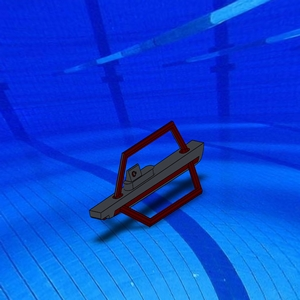submarine: (88, 111, 208, 238)
